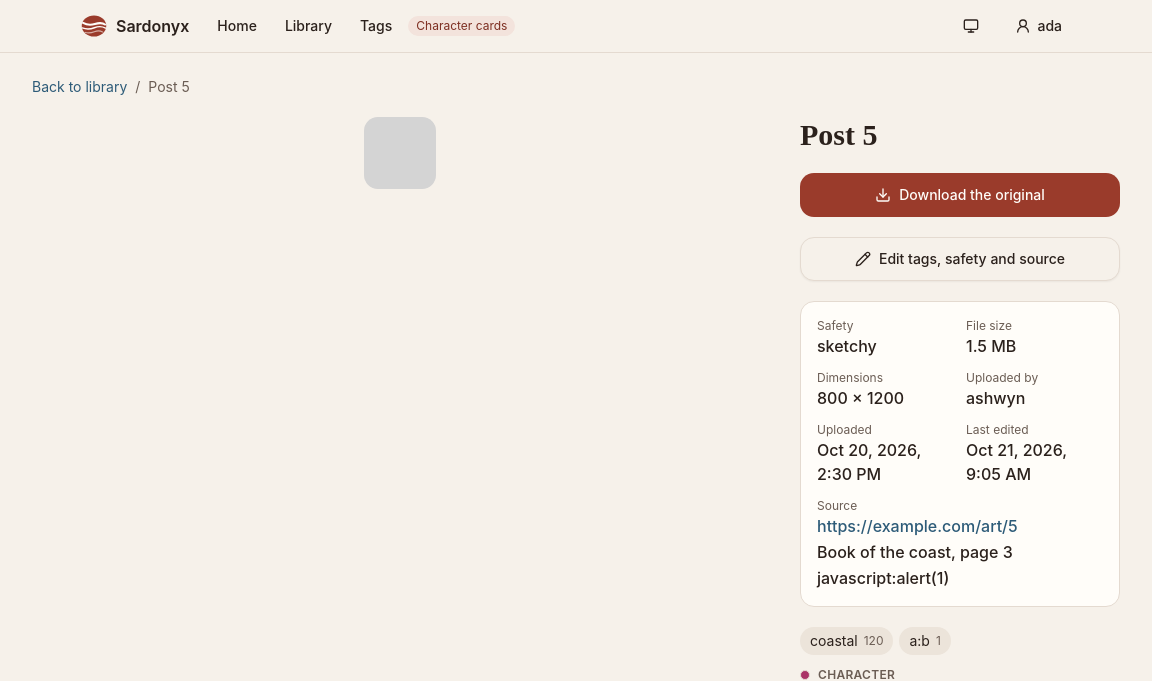
Test: editing › shows the new state on the page and in the library's lists
Step 1. Click the button "Edit tags, safety and source" → [960, 259], box [800,237,1120,281]
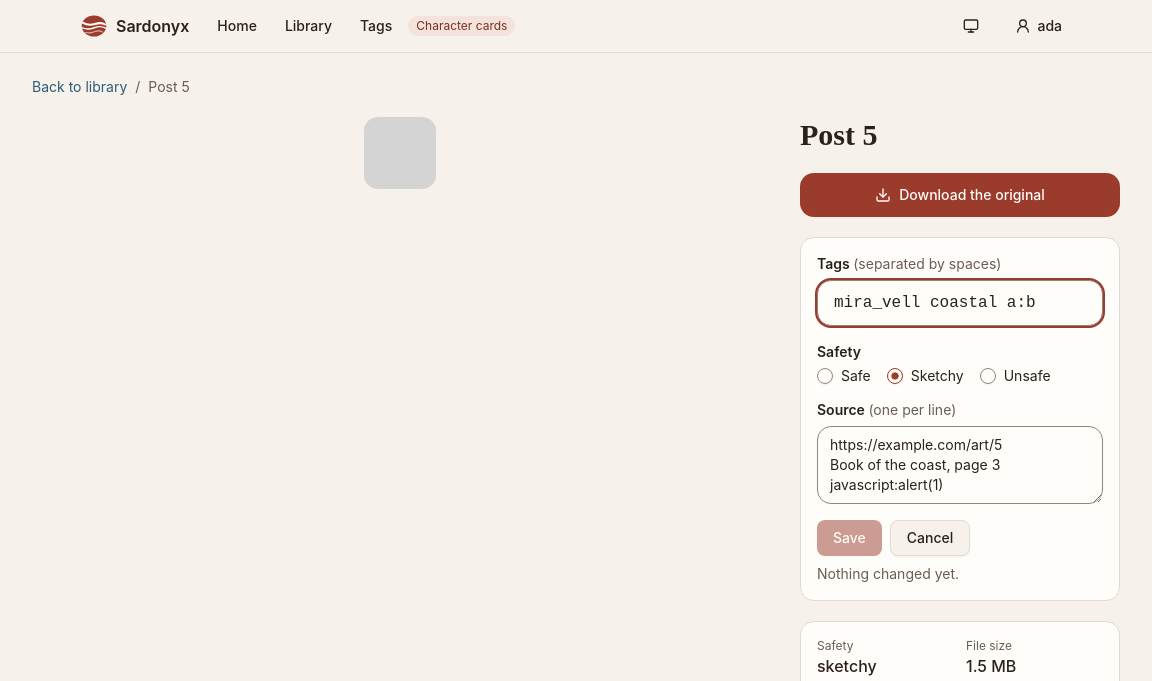
Step 2. Click the radio button named "Unsafe" next to "Unsafe" → [988, 376], box [980,368,996,384]
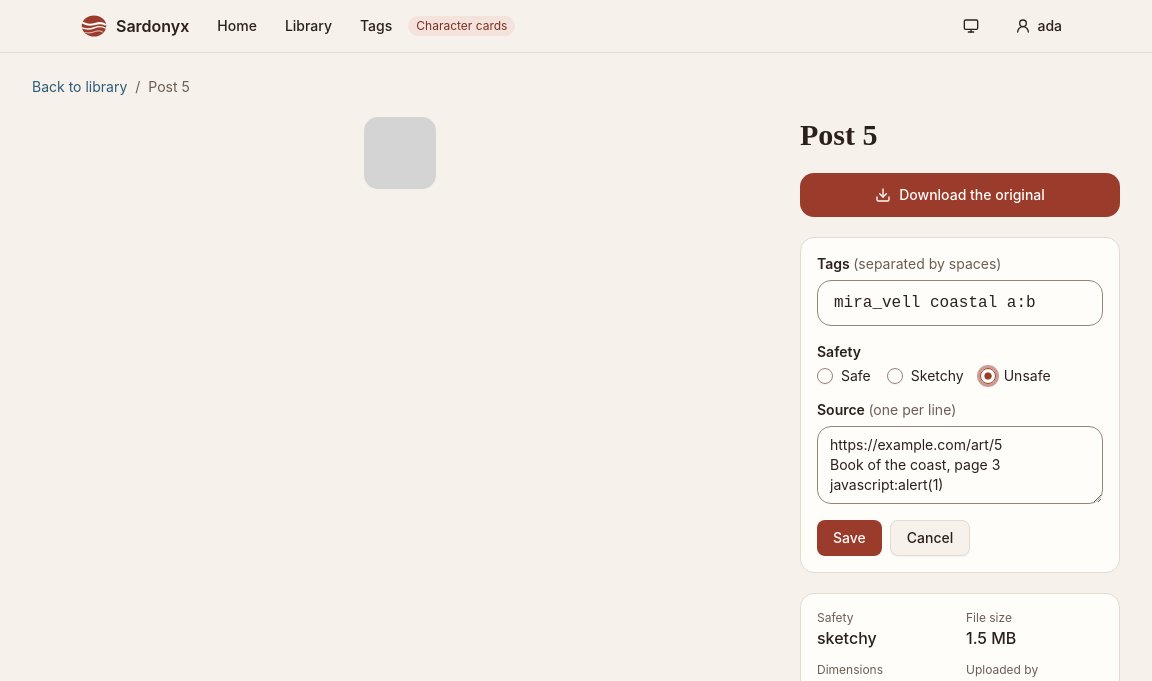
Step 3. Click the button "Save" → [849, 538], box [817,520,882,556]
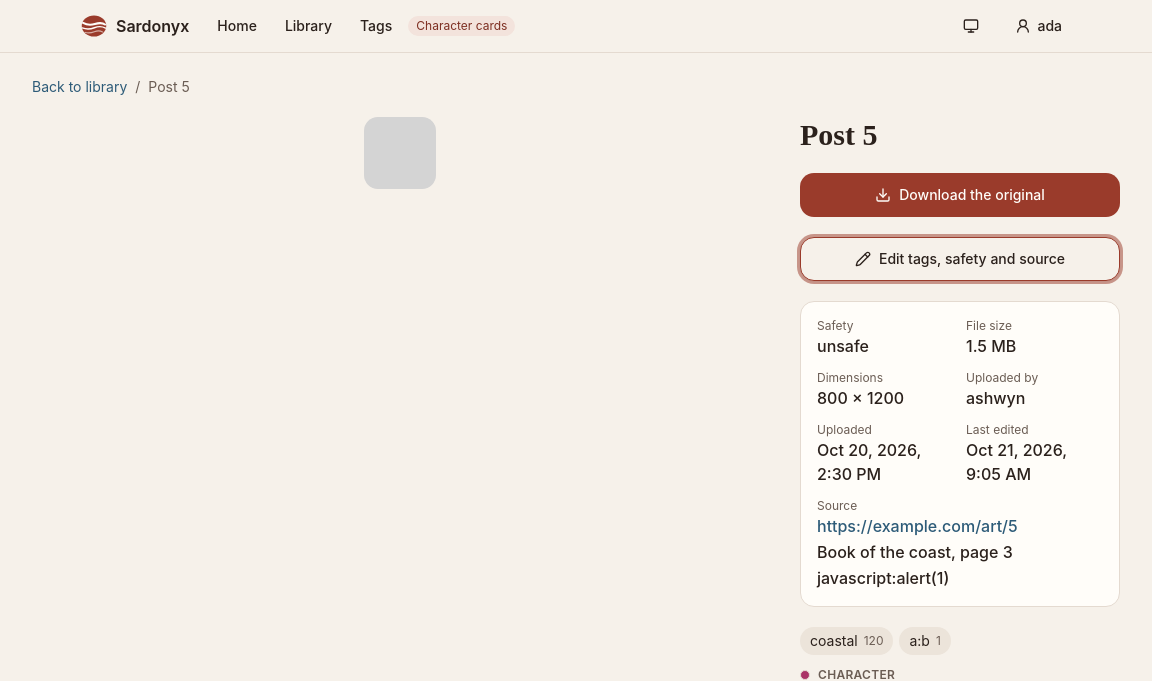
Expected: the form is gone
Expected: the text "unsafe" is shown, [817,336,869,356]
